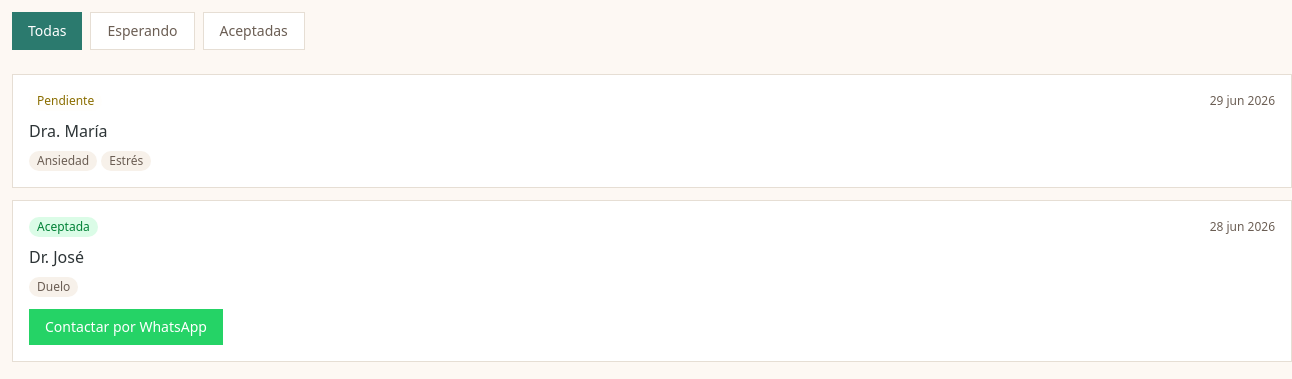
RequestsList (patient view) › filters by tab
The image size is (1292, 379).
Click the button "Aceptadas": coordinates (254, 31) [202,12,305,50]
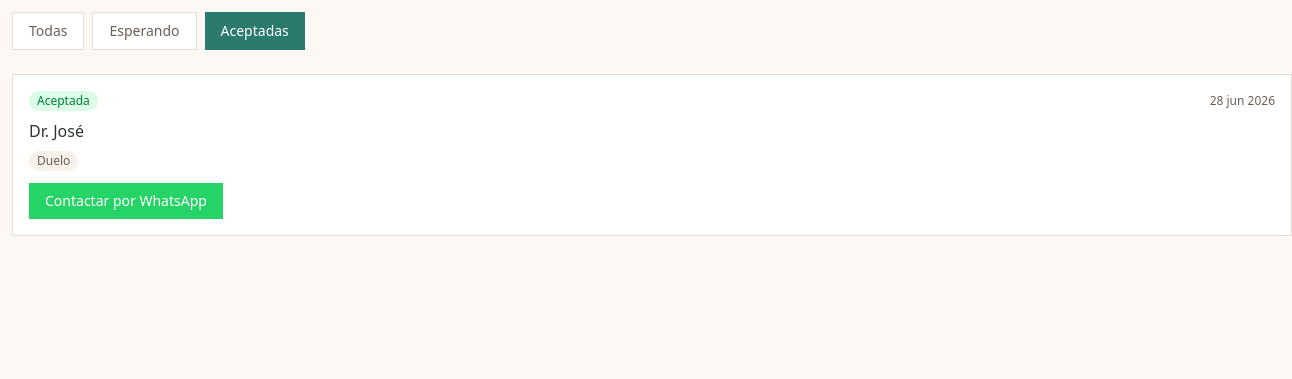
Expected: the text "Dr. José" is shown, [29,120,84,142]
Expected: the text "Dra. María" is gone
